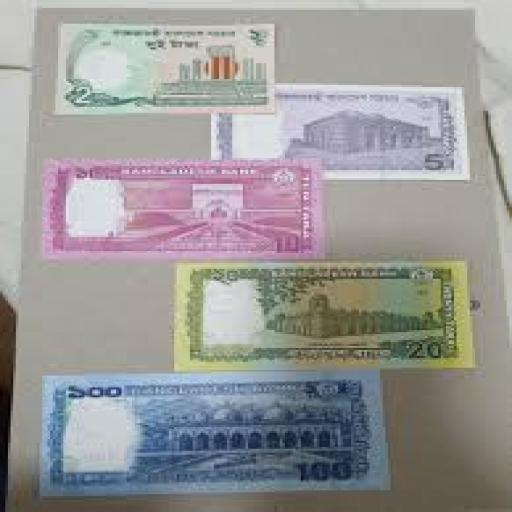100taka: (42, 372, 388, 494)
10taka: (45, 160, 322, 257)
20taka: (174, 261, 472, 370)
2taka: (58, 24, 272, 113)
5taka: (214, 83, 467, 178)
